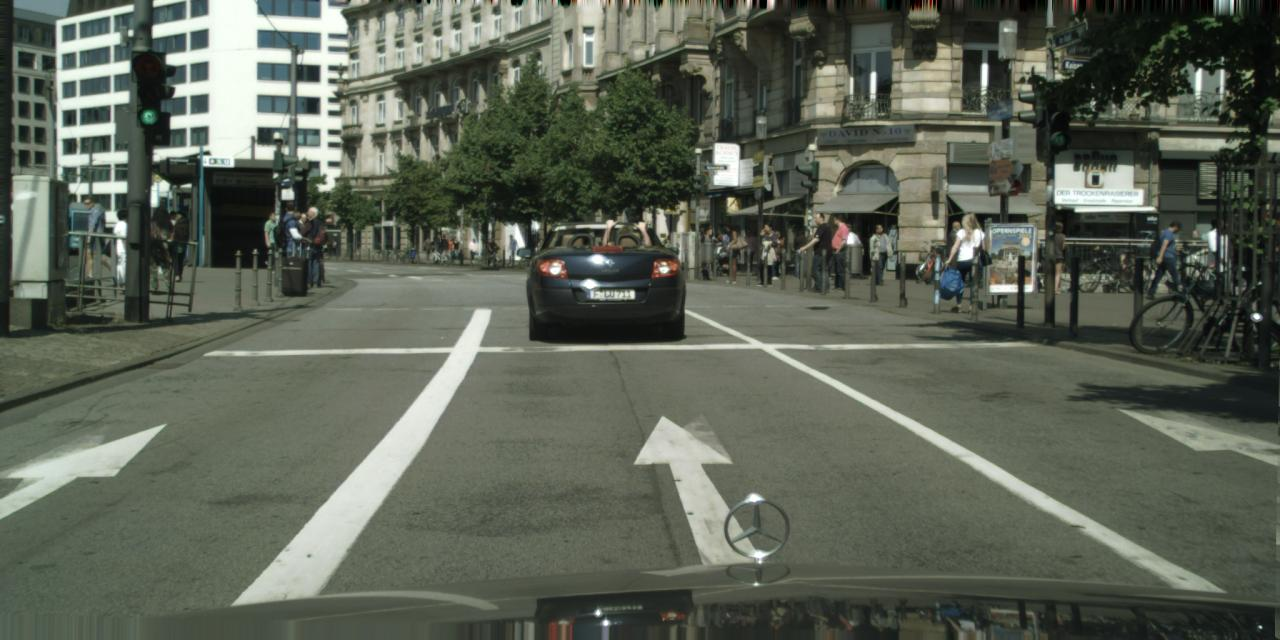ped: (947, 212, 987, 312), (107, 208, 142, 293), (78, 197, 112, 281), (271, 200, 305, 284), (1200, 216, 1234, 298), (804, 212, 837, 293), (1154, 220, 1186, 299), (298, 207, 330, 284), (824, 214, 854, 290), (1041, 220, 1070, 292), (147, 207, 175, 277), (941, 221, 968, 288), (290, 212, 316, 278), (283, 211, 309, 277), (753, 222, 779, 286), (1184, 229, 1210, 293), (866, 223, 890, 286), (720, 224, 744, 283), (262, 211, 284, 269), (167, 212, 189, 266), (840, 224, 861, 279), (161, 210, 182, 262), (698, 228, 718, 280), (766, 230, 786, 279), (791, 230, 810, 278), (715, 228, 733, 274), (739, 229, 757, 274), (711, 233, 727, 272), (506, 234, 518, 264), (448, 234, 458, 260), (486, 238, 496, 263), (431, 236, 441, 261), (468, 238, 478, 262), (439, 233, 448, 258), (423, 238, 433, 260), (451, 237, 460, 259), (321, 238, 328, 258), (447, 237, 454, 257), (330, 239, 337, 257), (327, 240, 332, 256)
